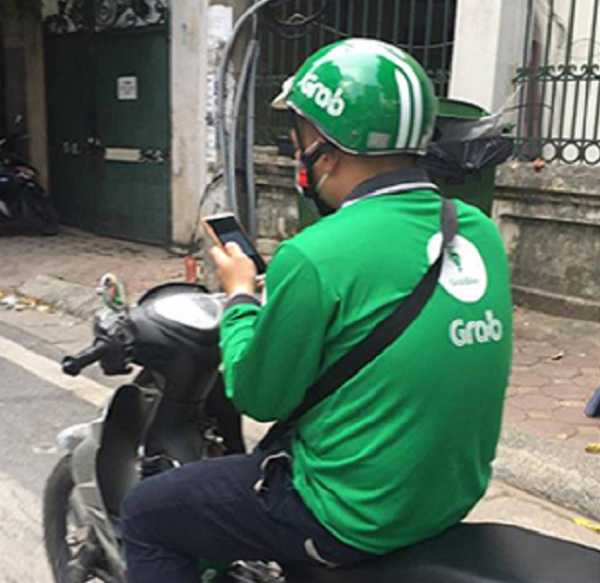su dung dien thoai: (201, 40, 438, 299)
